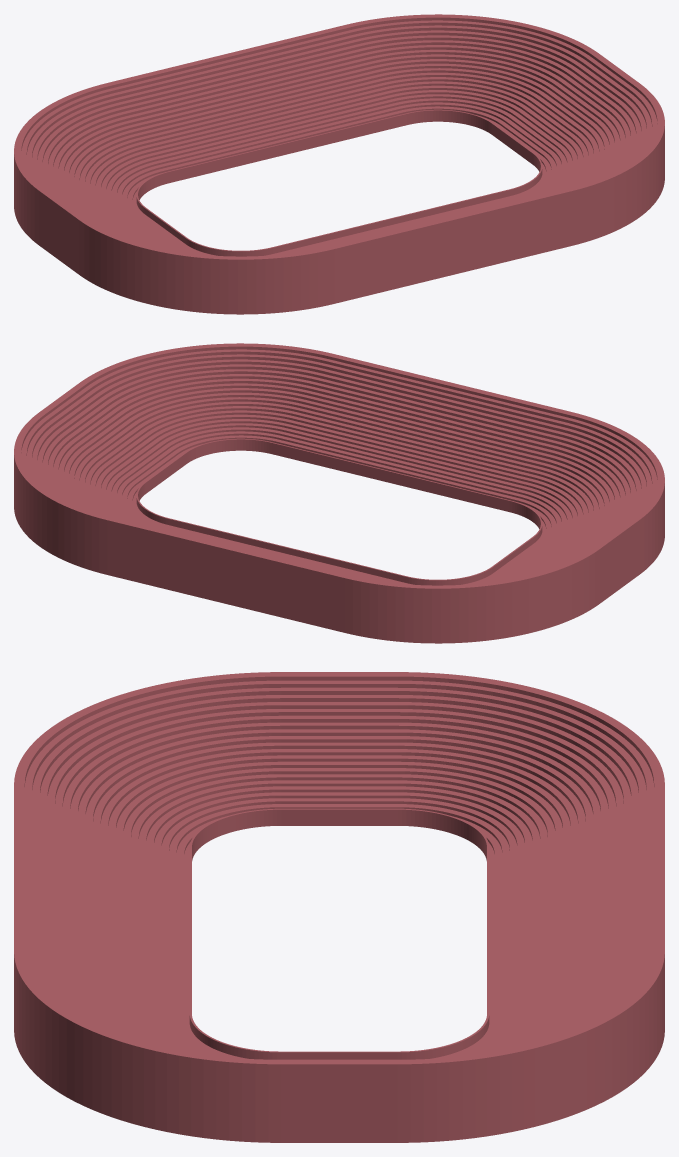
The model's file is SM_Arena_Main_BowlLower.fbx.
3 renders of one model, top to bottom at view 1: azimuth 30°, elevation 25°; view 2: azimuth 150°, elevation 25°; view 3: azimuth 270°, elevation 25°, orthographic. The views are drawn at different scales.
Visible parts, largest first — view 1: SM_Arena_Main_L104, SM_Arena_Main_L103, SM_Arena_Main_L114, SM_Arena_Main_L109, SM_Arena_Main_L113, SM_Arena_Main_L119, SM_Arena_Main_L105, SM_Arena_Main_L108, SM_Arena_Main_L106, SM_Arena_Main_L107, SM_Arena_Main_L120, SM_Arena_Main_L110 (+8 smaller); view 2: SM_Arena_Main_L119, SM_Arena_Main_L120, SM_Arena_Main_L109, SM_Arena_Main_L114, SM_Arena_Main_L110, SM_Arena_Main_L104, SM_Arena_Main_L115, SM_Arena_Main_L118, SM_Arena_Main_L116, SM_Arena_Main_L117, SM_Arena_Main_L103, SM_Arena_Main_L113 (+8 smaller); view 3: SM_Arena_Main_L110, SM_Arena_Main_L113, SM_Arena_Main_L103, SM_Arena_Main_L120, SM_Arena_Main_L109, SM_Arena_Main_L114, SM_Arena_Main_L104, SM_Arena_Main_L119, SM_Arena_Main_L111, SM_Arena_Main_L112, SM_Arena_Main_L108, SM_Arena_Main_L115 (+8 smaller).
Part boxes in pixels (bbox=[...]): SM_Arena_Main_L104: bbox=[345, 14, 485, 124]; SM_Arena_Main_L103: bbox=[454, 17, 598, 134]; SM_Arena_Main_L114: bbox=[192, 246, 334, 314]; SM_Arena_Main_L109: bbox=[20, 83, 169, 198]; SM_Arena_Main_L113: bbox=[79, 219, 224, 311]; SM_Arena_Main_L119: bbox=[510, 142, 658, 245]; SM_Arena_Main_L105: bbox=[285, 25, 406, 139]; SM_Arena_Main_L108: bbox=[107, 68, 228, 182]; SM_Arena_Main_L106: bbox=[226, 39, 347, 153]; SM_Arena_Main_L107: bbox=[167, 54, 287, 168]; SM_Arena_Main_L120: bbox=[532, 83, 664, 197]; SM_Arena_Main_L110: bbox=[14, 131, 145, 244]; SM_Arena_Main_L119: bbox=[193, 343, 333, 453]; SM_Arena_Main_L120: bbox=[80, 346, 224, 463]; SM_Arena_Main_L109: bbox=[344, 575, 486, 643]; SM_Arena_Main_L114: bbox=[509, 412, 658, 527]; SM_Arena_Main_L110: bbox=[454, 548, 599, 640]; SM_Arena_Main_L104: bbox=[20, 471, 168, 574]; SM_Arena_Main_L115: bbox=[450, 397, 571, 511]; SM_Arena_Main_L118: bbox=[272, 354, 393, 468]; SM_Arena_Main_L116: bbox=[391, 383, 511, 497]; SM_Arena_Main_L117: bbox=[331, 368, 452, 482]; SM_Arena_Main_L103: bbox=[14, 412, 146, 526]; SM_Arena_Main_L113: bbox=[533, 460, 664, 573]; SM_Arena_Main_L110: bbox=[397, 672, 586, 836]; SM_Arena_Main_L113: bbox=[92, 672, 281, 836]; SM_Arena_Main_L103: bbox=[397, 1028, 586, 1142]; SM_Arena_Main_L120: bbox=[92, 1028, 281, 1142]; SM_Arena_Main_L109: bbox=[461, 705, 664, 860]; SM_Arena_Main_L114: bbox=[14, 705, 217, 860]; SM_Arena_Main_L104: bbox=[461, 951, 664, 1109]; SM_Arena_Main_L119: bbox=[14, 951, 217, 1109]; SM_Arena_Main_L111: bbox=[339, 672, 397, 825]; SM_Arena_Main_L112: bbox=[281, 672, 339, 825]; SM_Arena_Main_L108: bbox=[487, 785, 664, 897]; SM_Arena_Main_L115: bbox=[14, 785, 191, 897].
Size of the model in its own units: 10380 by 970 by 7280.
